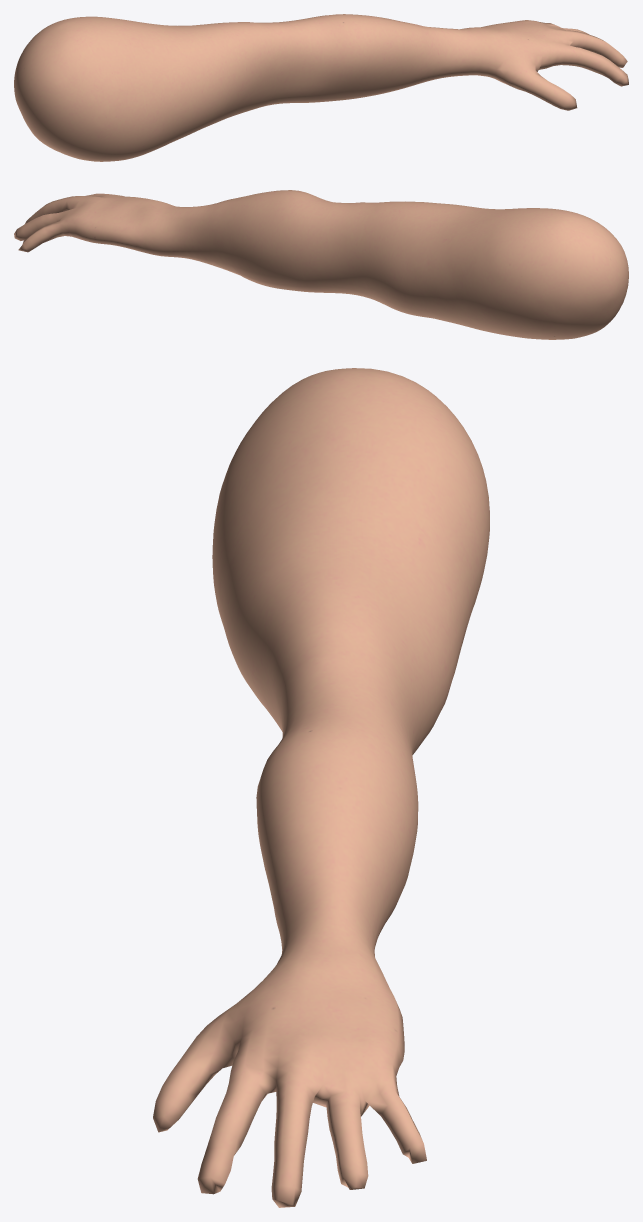
Rendered from handunity311111.fbx.
3 views of the same model, one above another, from view 1: azimuth 30°, elevation 25°; view 2: azimuth 150°, elevation 25°; view 3: azimuth 270°, elevation 25° (orthographic). The views are drawn at different scales.
Visible parts, largest first — view 1: ac; view 2: ac; view 3: ac.
Boxes of the visible parts, bbox=[...] form: ac: bbox=[14, 14, 628, 161]; ac: bbox=[14, 190, 628, 339]; ac: bbox=[153, 368, 489, 1207].
Bounding box in the file's own units: 158 × 40.12 × 39.08.
1 material, 1 textured.
